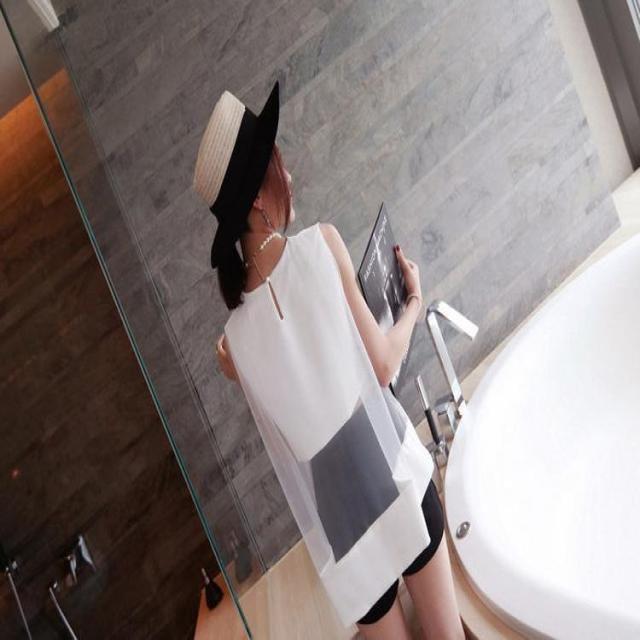shorts: (312, 390, 442, 624)
vest: (224, 224, 433, 628)
